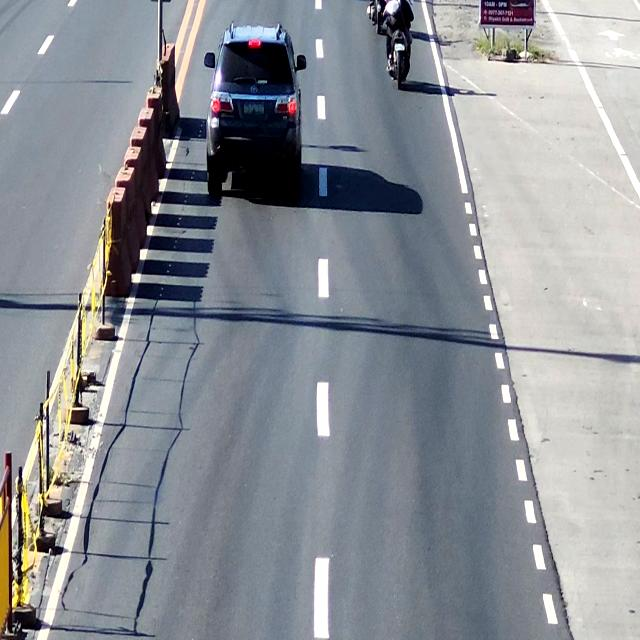Car: (206, 26, 305, 202)
License-Plate: (243, 100, 270, 120), (392, 39, 408, 52)
Motorcycle: (387, 0, 419, 93)
